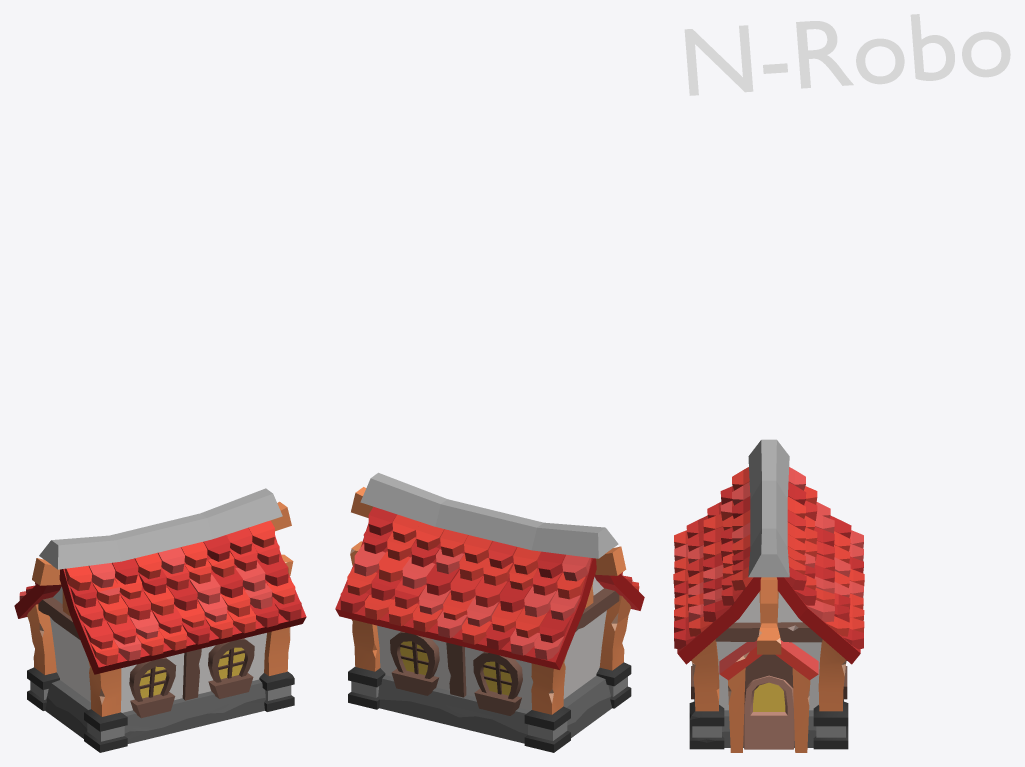
File: pb_mon.glb
The picture shows the model from 3 angles, left to right: view 1: azimuth 30°, elevation 25°; view 2: azimuth 150°, elevation 25°; view 3: azimuth 270°, elevation 25°; orthographic projection. The views are drawn at different scales.
Visible parts, largest first — view 1: house_003; view 2: house_003; view 3: house_003, N-ROBO.
Boxes of the visible parts, box(x1,y1,x2,y2) form: house_003: box(14, 488, 306, 752); house_003: box(335, 472, 644, 752); house_003: box(673, 439, 864, 752); N-ROBO: box(684, 14, 1010, 95).
Bounding box in the file's own units: 5.4 × 12.79 × 5.75.
Materials: 1 (1 with a texture image).
